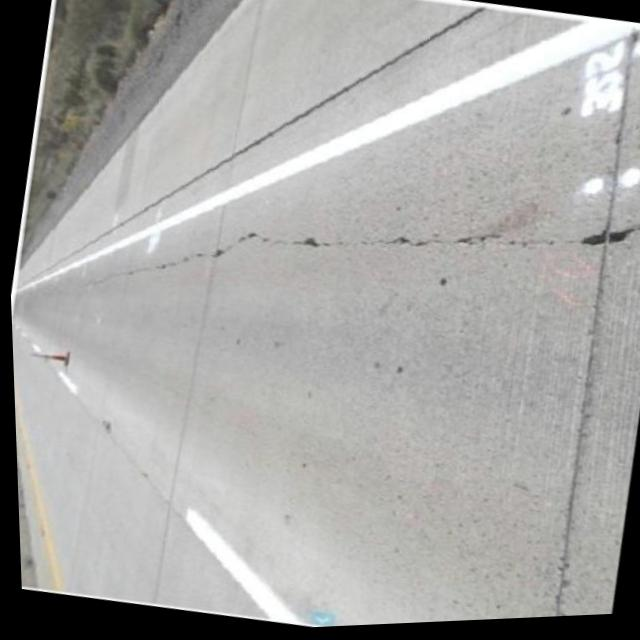Crack: (450, 182, 640, 315), (267, 203, 493, 310), (151, 202, 322, 314), (77, 213, 201, 315)
